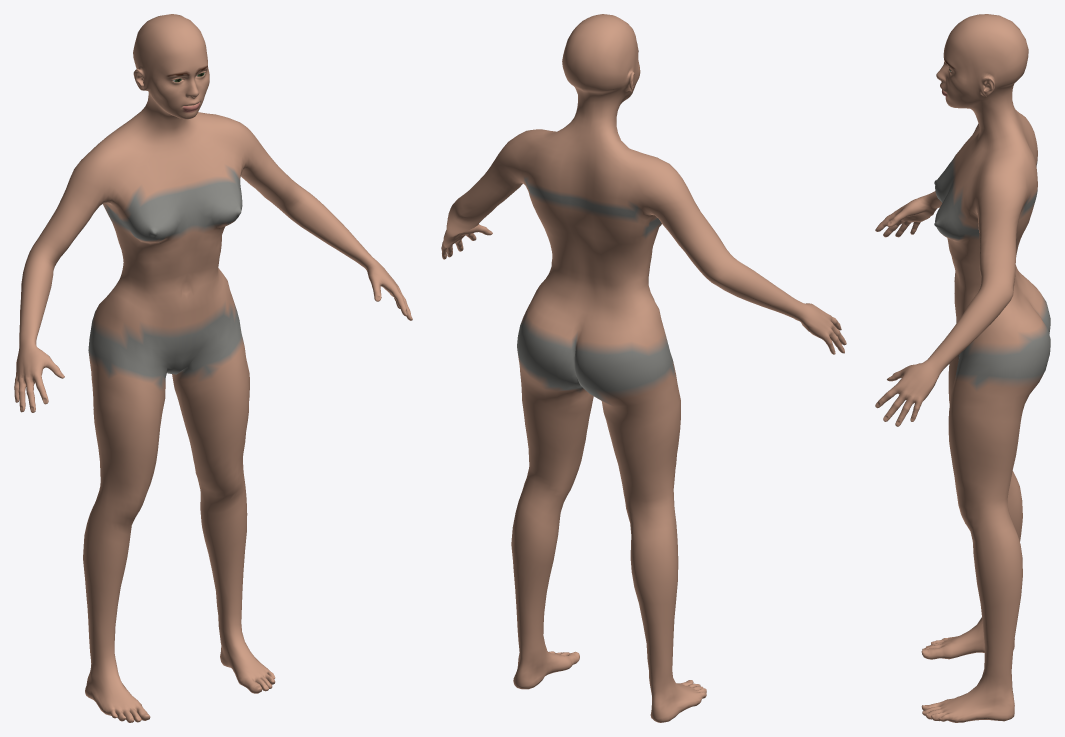
Rendered from body_b.glb.
The picture shows the model from 3 angles, left to right: view 1: azimuth 30°, elevation 25°; view 2: azimuth 150°, elevation 25°; view 3: azimuth 270°, elevation 25°; orthographic projection.
Visible parts, largest first — view 1: BodyB; view 2: BodyB; view 3: BodyB.
Boxes of the visible parts, bbox=[...] form: BodyB: bbox=[14, 14, 412, 722]; BodyB: bbox=[441, 14, 846, 722]; BodyB: bbox=[875, 14, 1050, 722].
Size of the model in its own units: 1.04 by 1.7 by 0.4044.
